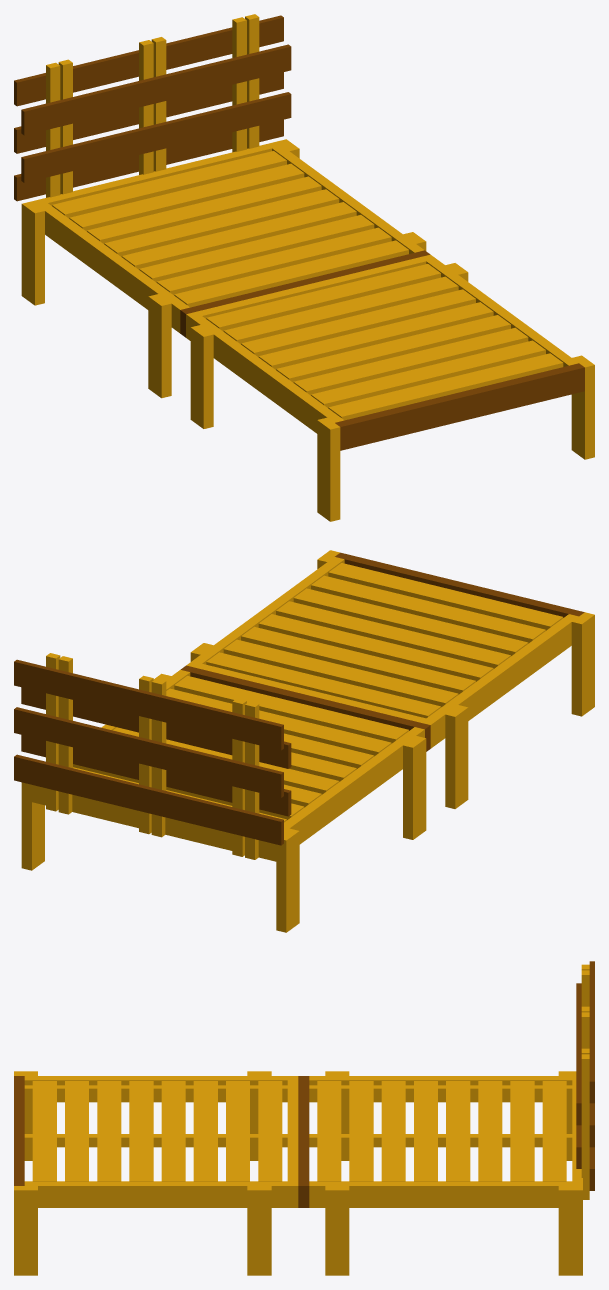
The model's file is bed.glb.
3 renders of one model, top to bottom at view 1: azimuth 30°, elevation 25°; view 2: azimuth 150°, elevation 25°; view 3: azimuth 270°, elevation 25°, orthographic. The views are drawn at different scales.
Parts seen in each view (by area): view 1: girder2.1, board2.2, board2.1, board1.3, girder1.3, girder2.3, beam1.3, beam1.5, beam1.7, beam2.3, beam2.5, beam1.4 (+28 smaller); view 2: board1.1, board1.3, board1.2, girder2.3, girder1.3, beam2.3, beam2.1, beam2.5, beam2.7, beam2.2, beam2.4, beam2.6 (+25 smaller); view 3: girder1.4, girder2.4, beam1.2, beam1.7, beam2.4, beam1.1, beam1.3, beam1.5, beam1.6, beam1.8, beam2.1, beam2.3 (+26 smaller).
Part boxes in pixels (x1=…): girder2.1: x1=335, y1=363, x2=584, y2=450; board2.2: x1=21, y1=44, x2=291, y2=135; board2.1: x1=21, y1=92, x2=291, y2=182; board1.3: x1=14, y1=15, x2=283, y2=106; girder1.3: x1=38, y1=203, x2=189, y2=333; girder2.3: x1=192, y1=316, x2=344, y2=433; beam1.3: x1=139, y1=215, x2=374, y2=282; beam1.5: x1=104, y1=189, x2=339, y2=256; beam1.7: x1=69, y1=163, x2=304, y2=231; beam2.3: x1=293, y1=327, x2=528, y2=395; beam2.5: x1=258, y1=302, x2=493, y2=369; beam1.4: x1=121, y1=202, x2=356, y2=269; board1.1: x1=14, y1=754, x2=283, y2=845; board1.3: x1=14, y1=659, x2=283, y2=750; board1.2: x1=14, y1=707, x2=283, y2=797; girder2.3: x1=426, y1=614, x2=578, y2=744; girder1.3: x1=284, y1=727, x2=424, y2=844; beam2.3: x1=293, y1=588, x2=528, y2=655; beam2.1: x1=328, y1=563, x2=563, y2=630; beam2.5: x1=258, y1=614, x2=493, y2=681; beam2.7: x1=223, y1=639, x2=458, y2=707; beam2.2: x1=311, y1=575, x2=545, y2=643; beam2.4: x1=276, y1=601, x2=510, y2=668; beam2.6: x1=241, y1=626, x2=475, y2=694; girder1.4: x1=309, y1=1181, x2=572, y2=1207; girder2.4: x1=24, y1=1181, x2=287, y2=1207; beam1.2: x1=349, y1=1081, x2=373, y2=1181; beam1.7: x1=510, y1=1081, x2=534, y2=1181; beam2.4: x1=129, y1=1081, x2=153, y2=1181; beam1.1: x1=317, y1=1081, x2=341, y2=1181; beam1.3: x1=381, y1=1081, x2=405, y2=1181; beam1.5: x1=446, y1=1081, x2=470, y2=1181; beam1.6: x1=478, y1=1081, x2=502, y2=1181; beam1.8: x1=542, y1=1081, x2=566, y2=1181; beam2.1: x1=32, y1=1081, x2=56, y2=1181; beam2.3: x1=97, y1=1081, x2=121, y2=1181.
Bounding box in the file's own units: 1.06 × 0.84 × 2.16.
